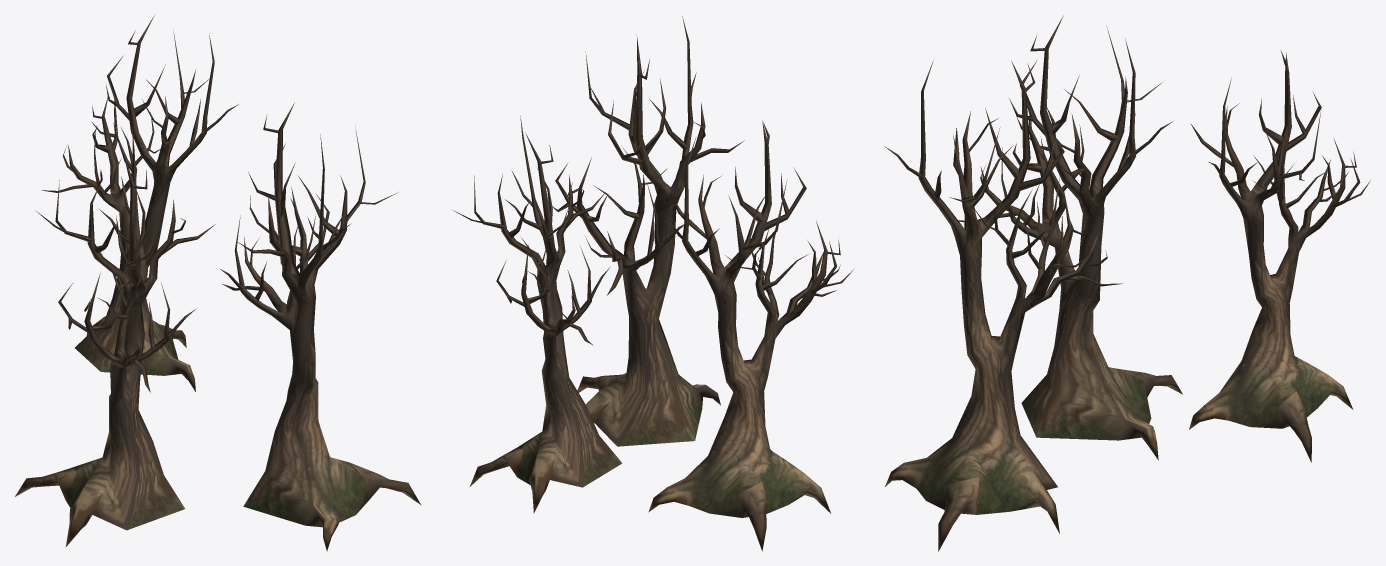
Rendered from menu_plants_tall_tree_trunks206.fbx.
3 views of the same model, side by side, from view 1: azimuth 30°, elevation 25°; view 2: azimuth 150°, elevation 25°; view 3: azimuth 270°, elevation 25° (orthographic). The views are drawn at different scales.
Parts seen in each view (by area): view 1: Material_#238684027/fancy_tree; view 2: Material_#238684027/fancy_tree; view 3: Material_#238684027/fancy_tree.
Part boxes in pixels (box(x1,y1,x2,y2)): Material_#238684027/fancy_tree: box(15, 15, 420, 551); Material_#238684027/fancy_tree: box(451, 16, 853, 551); Material_#238684027/fancy_tree: box(884, 15, 1370, 551).
Size of the model in its own units: 7.54 by 9.38 by 9.25.
